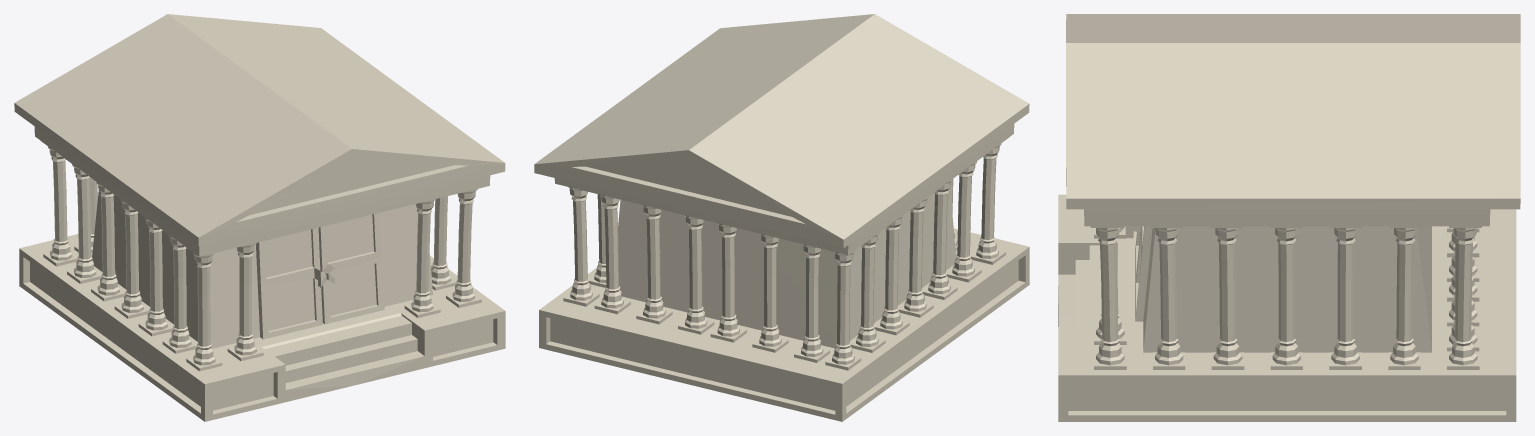
File: bati-Bank.glb
The picture shows the model from 3 angles, left to right: view 1: azimuth 30°, elevation 25°; view 2: azimuth 150°, elevation 25°; view 3: azimuth 270°, elevation 25°; orthographic projection. The views are drawn at different scales.
Visible parts, largest first — view 1: Bank_Cube.012; view 2: Bank_Cube.012; view 3: Bank_Cube.012.
Boxes of the visible parts, x1,y1,x2,y2 form: Bank_Cube.012: (14,14,505,421); Bank_Cube.012: (534,14,1029,421); Bank_Cube.012: (1058,14,1520,421).
Size of the model in its own units: 4.01 by 2.92 by 4.24.
